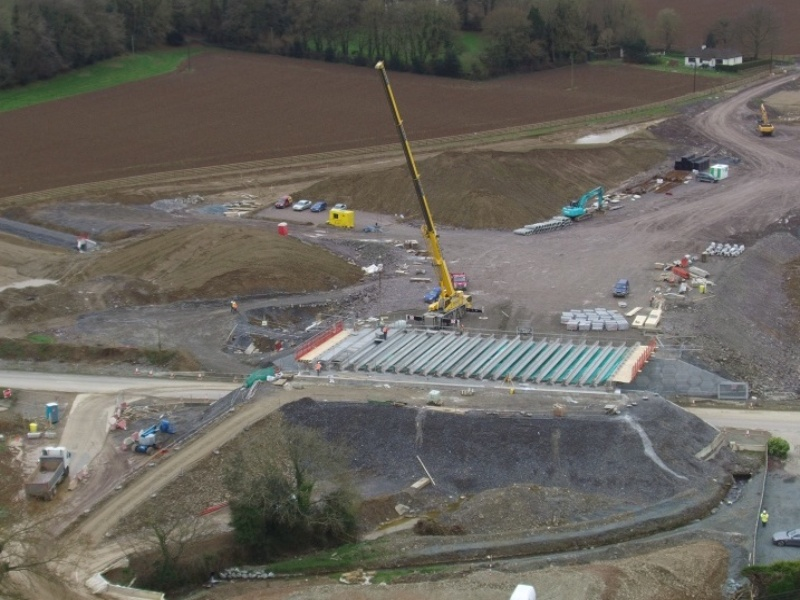crane: (369, 58, 484, 339)
excavator: (561, 185, 606, 228), (750, 100, 777, 141)
vehicle: (22, 442, 71, 509), (769, 525, 800, 551), (614, 278, 632, 298)
